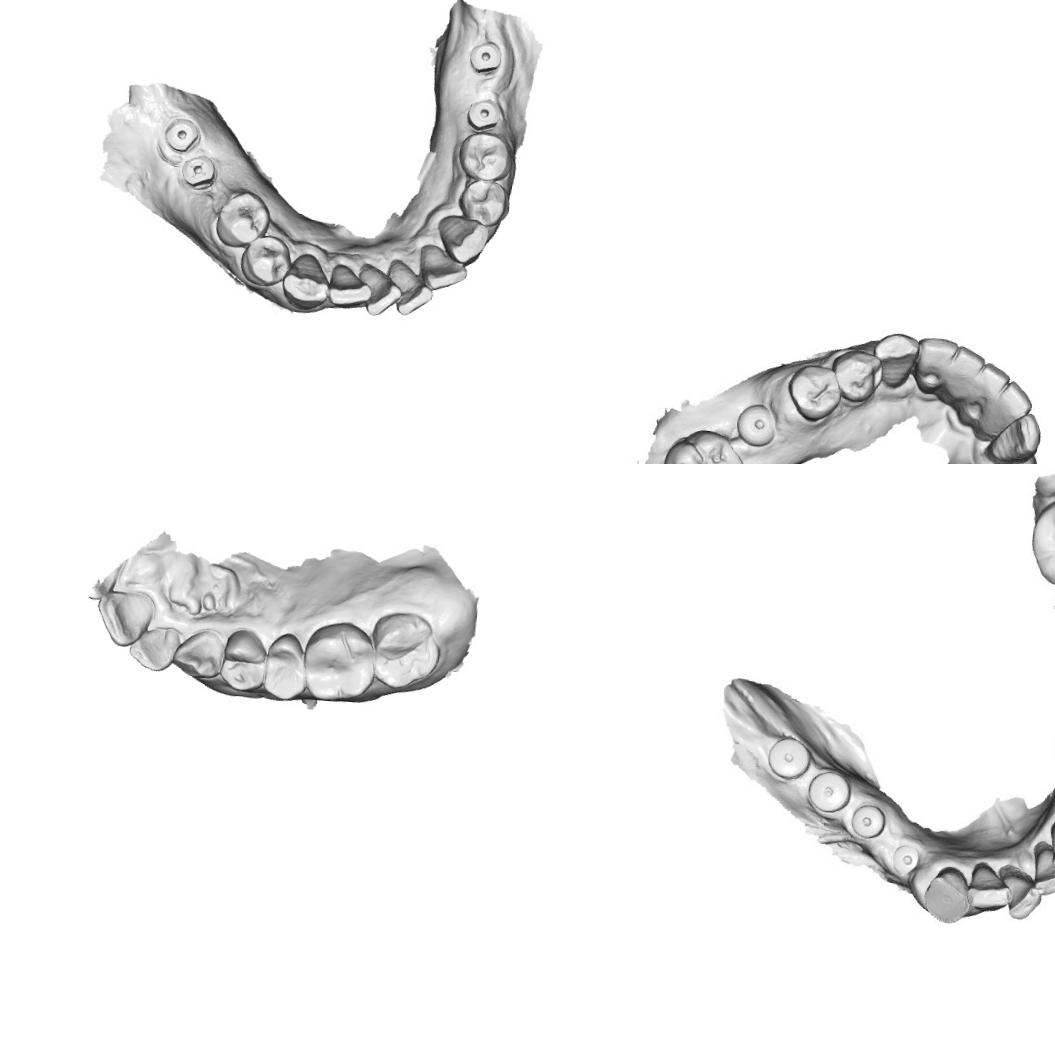canine: (918, 864, 980, 928), (167, 623, 229, 685), (280, 249, 331, 311), (433, 211, 490, 266), (983, 409, 1038, 464), (876, 332, 918, 390)
implant: (766, 724, 814, 786), (807, 758, 856, 816), (849, 801, 885, 853), (735, 402, 772, 450), (892, 844, 932, 888), (465, 36, 504, 77), (162, 115, 202, 154), (463, 96, 501, 134)
implant_plus: (177, 150, 220, 193)
incisor: (92, 586, 161, 650), (124, 619, 183, 674), (383, 256, 436, 317), (353, 260, 404, 319), (912, 335, 956, 403), (415, 241, 471, 294), (966, 857, 1012, 915), (325, 260, 374, 311), (997, 863, 1042, 918), (944, 342, 985, 382), (972, 357, 1008, 401), (994, 383, 1032, 424), (1032, 848, 1055, 895), (1043, 816, 1055, 871)
molar: (364, 606, 446, 694), (297, 617, 379, 705), (666, 432, 746, 464), (1028, 494, 1055, 586)
premolar: (216, 622, 272, 694), (212, 186, 273, 250), (259, 627, 309, 703), (832, 345, 886, 411), (237, 231, 295, 290), (455, 130, 516, 182), (786, 364, 837, 425), (454, 175, 512, 228)
